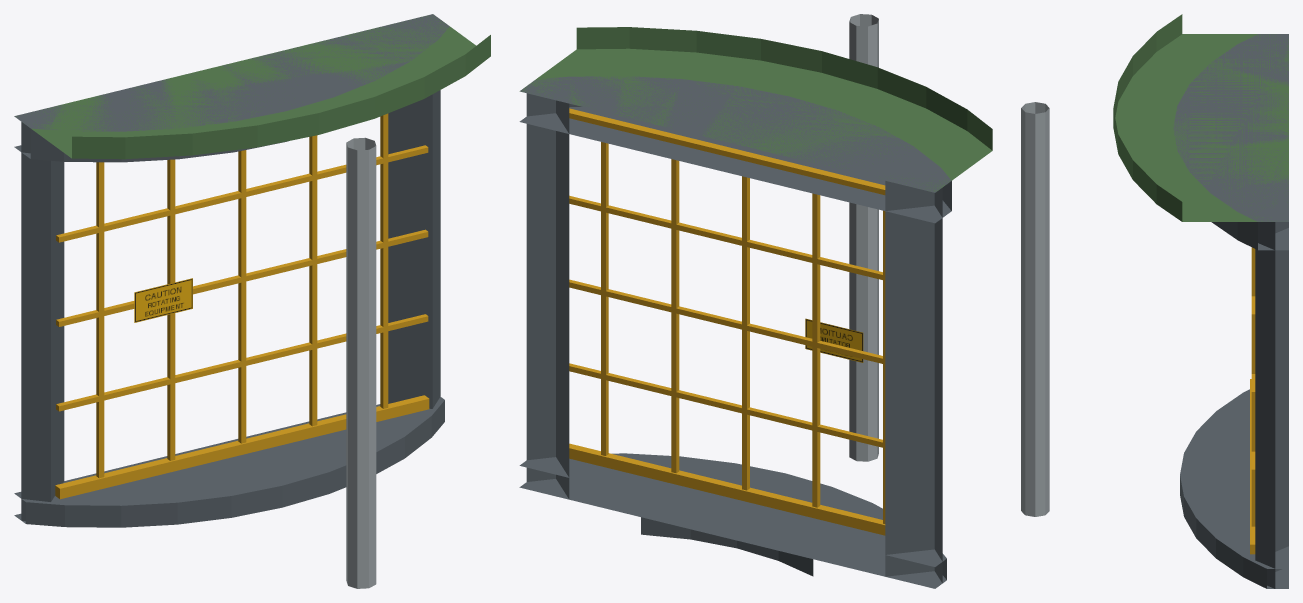
Rendered from cell_27.obj.
The picture shows the model from 3 angles, left to right: view 1: azimuth 30°, elevation 25°; view 2: azimuth 150°, elevation 25°; view 3: azimuth 270°, elevation 25°; orthographic projection. The views are drawn at different scales.
Bounding box in the file's own units: 1 × 1 × 0.6018.
